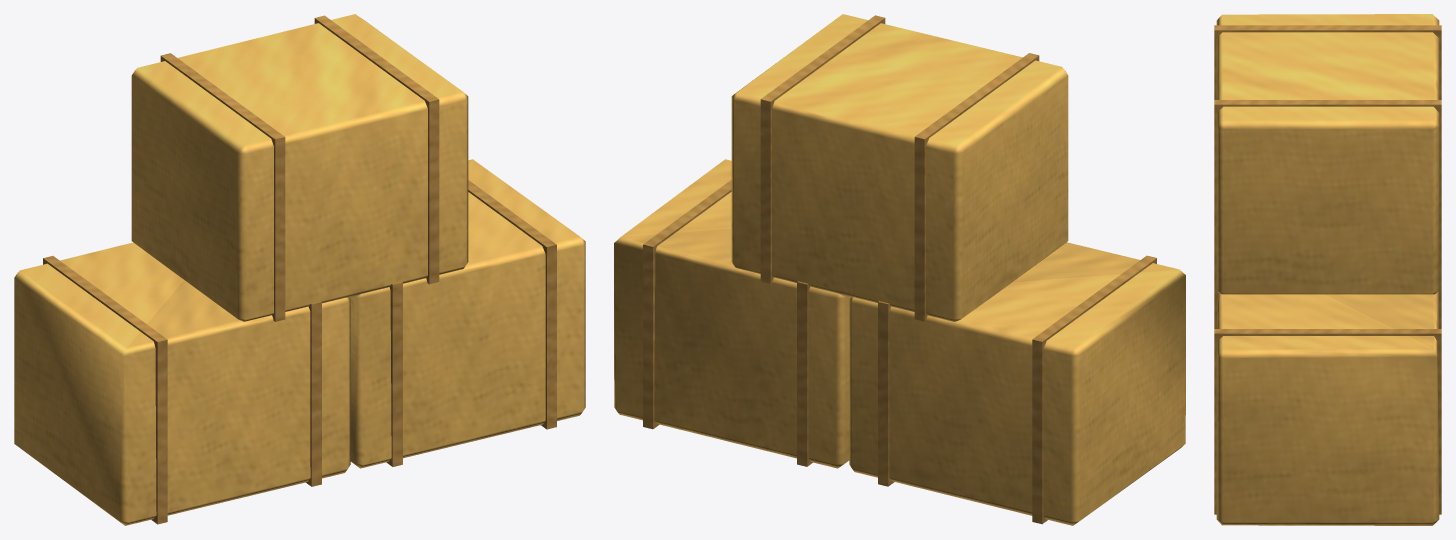
Rendered from race_hay_bales.glb.
3 views of the same model, side by side, from view 1: azimuth 30°, elevation 25°; view 2: azimuth 150°, elevation 25°; view 3: azimuth 270°, elevation 25° (orthographic).
Visible parts, largest first — view 1: Body; view 2: Body; view 3: Body.
Part boxes in pixels (x1,y1,x2,y2): Body: (14,14,585,525); Body: (614,14,1185,525); Body: (1214,14,1441,525).
Size of the model in its own units: 1.15 by 0.84 by 0.49.
Materials: 1 (1 with a texture image).
